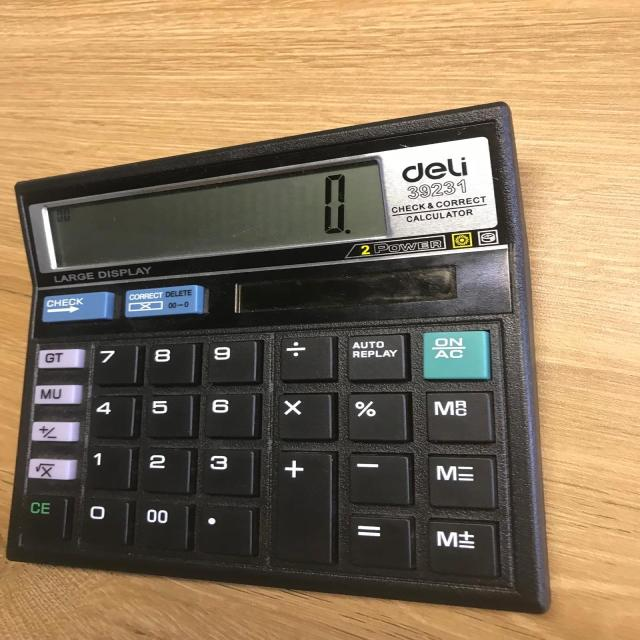calculator: (5, 100, 552, 614)
